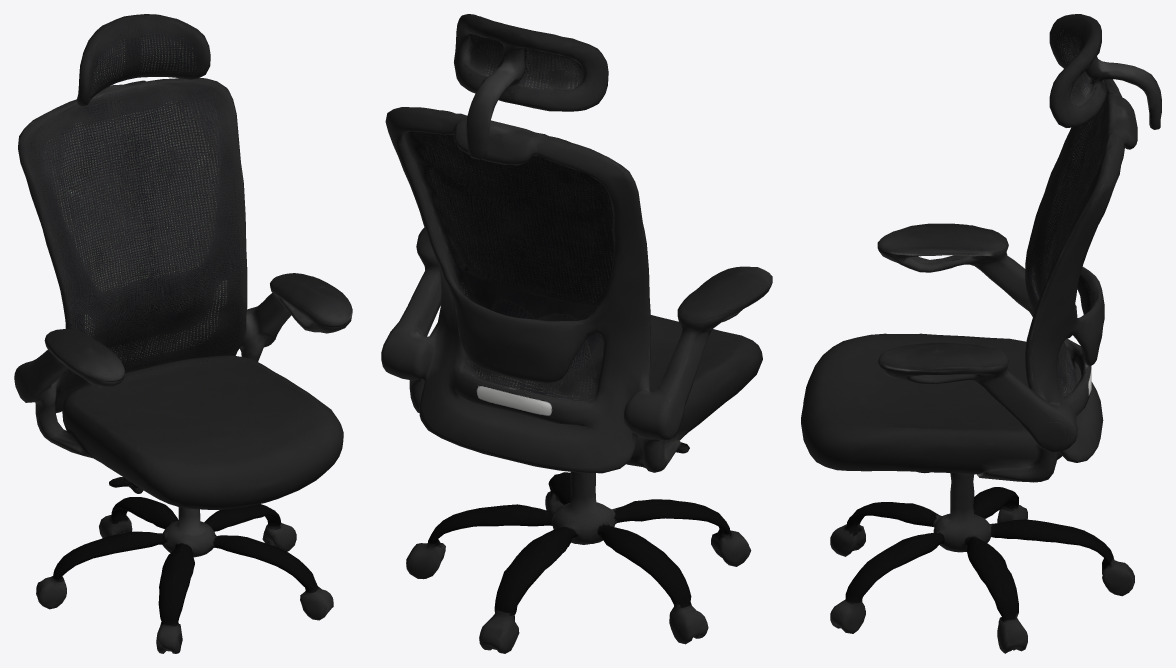
The model's file is Meshy_AI_Ergonomic_Mesh_Office_0501001046_texture.fbx.
The picture shows the model from 3 angles, left to right: view 1: azimuth 30°, elevation 25°; view 2: azimuth 150°, elevation 25°; view 3: azimuth 270°, elevation 25°; orthographic projection. The views are drawn at different scales.
Visible parts, largest first — view 1: Mesh_0; view 2: Mesh_0; view 3: Mesh_0.
Part boxes in pixels (left/top/right/bottom): Mesh_0: left=14, top=14, right=352, bottom=653; Mesh_0: left=381, top=14, right=772, bottom=653; Mesh_0: left=801, top=14, right=1161, bottom=653.
Bounding box in the file's own units: 105 × 191 × 111.
Materials: 1 (1 with a texture image).
